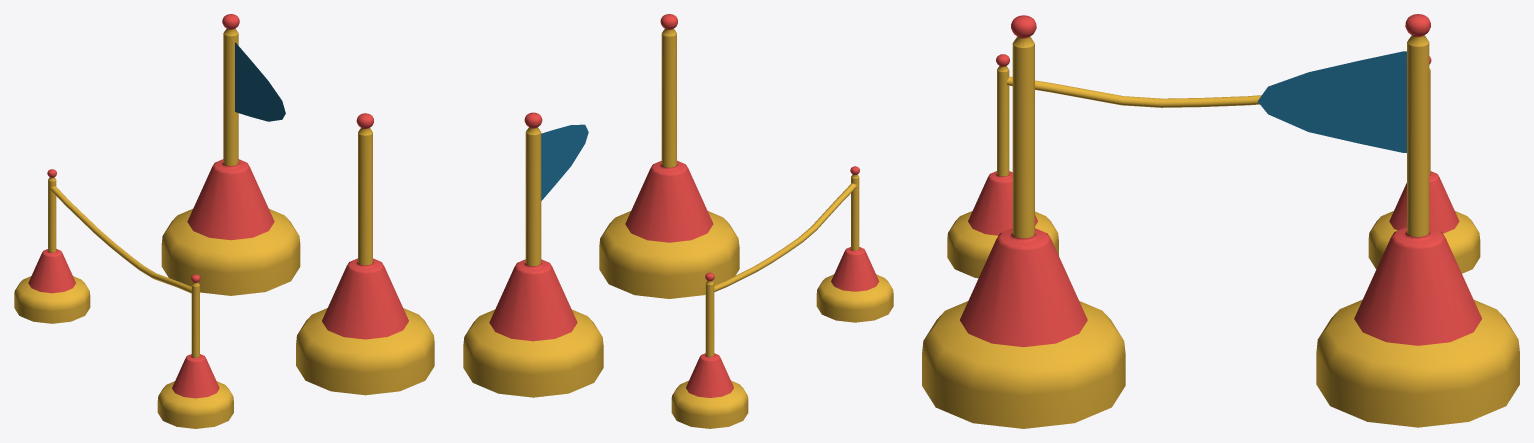
File: Flags.fbx
3 views of the same model, side by side, from view 1: azimuth 30°, elevation 25°; view 2: azimuth 150°, elevation 25°; view 3: azimuth 270°, elevation 25° (orthographic). The views are drawn at different scales.
Parts seen in each view (by area): view 1: pCylinder6, pCylinder2, polySurface5; view 2: pCylinder6, pCylinder2, polySurface5; view 3: pCylinder6, pCylinder2, polySurface5.
Boxes of the visible parts, <box> form: pCylinder6: <box>161,14,300,295</box>; pCylinder2: <box>296,113,434,395</box>; polySurface5: <box>14,169,233,428</box>; pCylinder6: <box>463,112,603,397</box>; pCylinder2: <box>599,14,739,298</box>; polySurface5: <box>671,166,893,428</box>; pCylinder6: <box>1257,14,1519,427</box>; pCylinder2: <box>922,15,1125,428</box>; polySurface5: <box>947,54,1480,278</box>.
Size of the model in its own units: 2.63 by 2.35 by 3.44.
